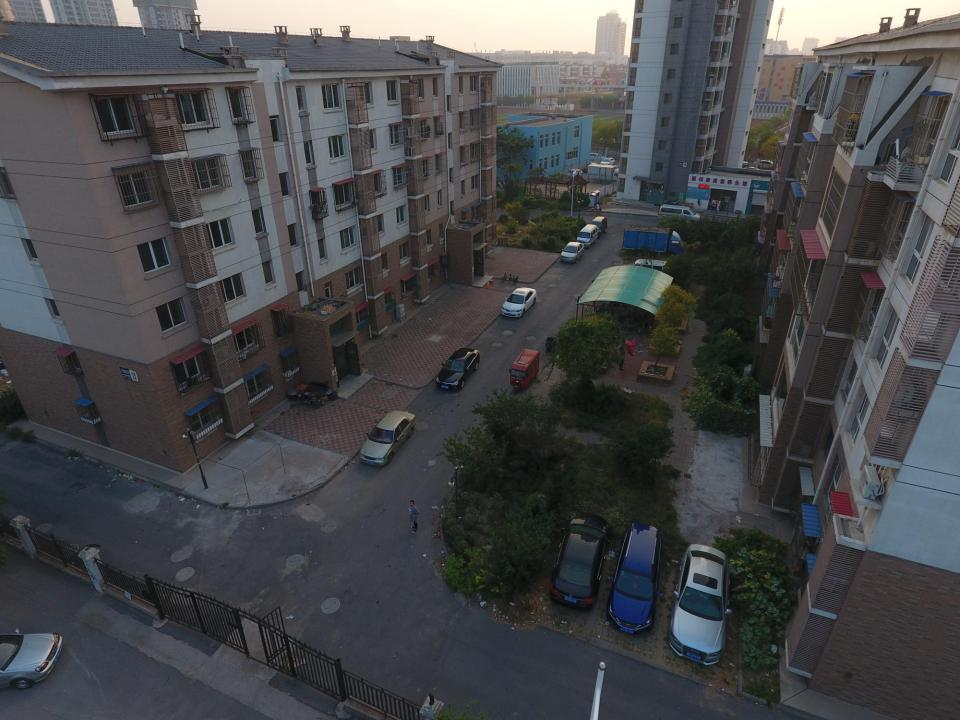car: (667, 543, 733, 666), (605, 522, 664, 636), (549, 512, 610, 613), (2, 628, 66, 690), (359, 410, 416, 466), (435, 347, 480, 391), (657, 204, 701, 227), (560, 241, 584, 263), (753, 159, 778, 170), (600, 157, 615, 168), (567, 169, 584, 178)
truck: (621, 224, 685, 257)
van: (626, 258, 668, 281), (577, 224, 598, 248), (587, 216, 607, 236)
